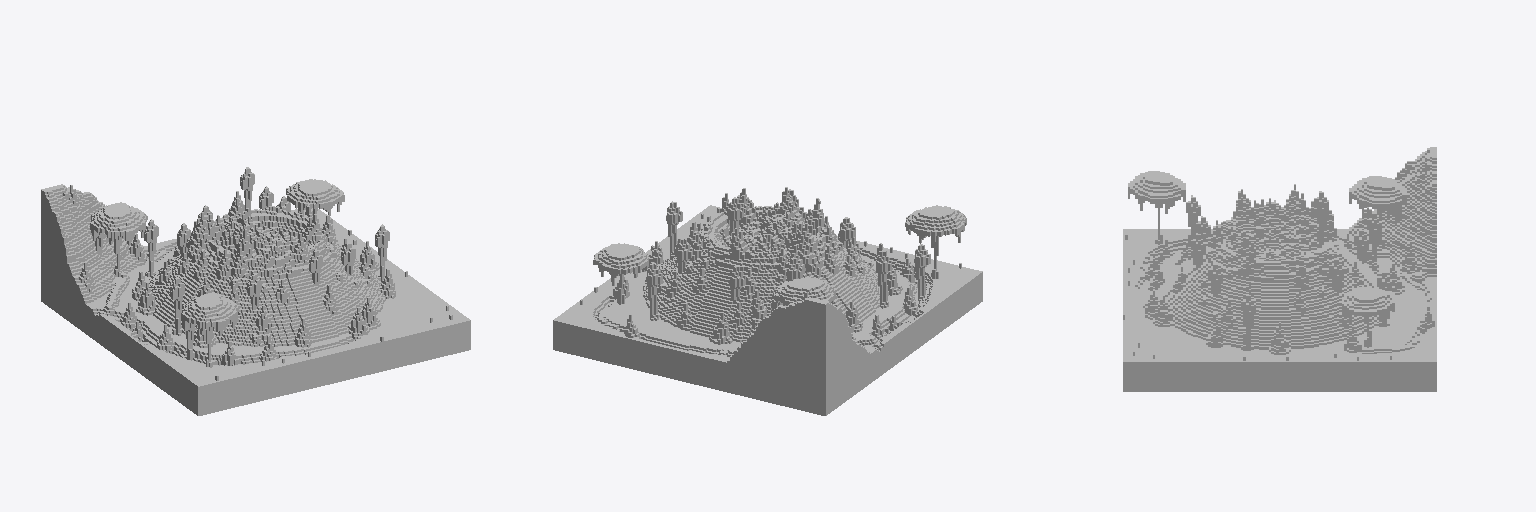
The model's file is Map (16).obj.
3 views of the same model, side by side, from view 1: azimuth 30°, elevation 25°; view 2: azimuth 150°, elevation 25°; view 3: azimuth 270°, elevation 25° (orthographic).
Parts seen in each view (by area): view 1: ALL MAP!!!!!!!!!!!-13; view 2: ALL MAP!!!!!!!!!!!-13; view 3: ALL MAP!!!!!!!!!!!-13.
Boxes of the visible parts, <box> form: ALL MAP!!!!!!!!!!!-13: <box>41,167,470,415</box>; ALL MAP!!!!!!!!!!!-13: <box>553,187,982,415</box>; ALL MAP!!!!!!!!!!!-13: <box>1123,147,1436,391</box>.
Size of the model in its own units: 125 by 61 by 125.